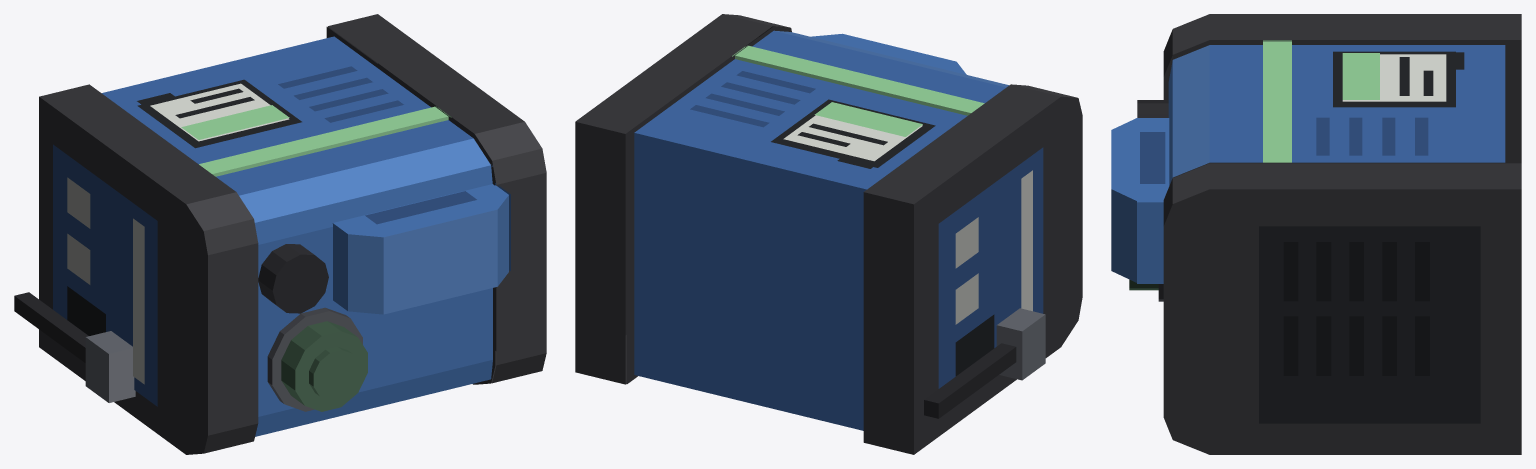
The model's file is backup_ground_valutech_off_N.obj.
The picture shows the model from 3 angles, left to right: view 1: azimuth 30°, elevation 25°; view 2: azimuth 150°, elevation 25°; view 3: azimuth 270°, elevation 25°; orthographic projection. The views are drawn at different scales.
Visible parts, largest first — view 1: backup_ground_valutech_off_N; view 2: backup_ground_valutech_off_N; view 3: backup_ground_valutech_off_N.
Part boxes in pixels (bbox=[...]): backup_ground_valutech_off_N: bbox=[14, 14, 546, 454]; backup_ground_valutech_off_N: bbox=[575, 14, 1082, 454]; backup_ground_valutech_off_N: bbox=[1111, 14, 1521, 454].
Bounding box in the file's own units: 0.561 × 0.357 × 0.5.
1 material, 1 textured.
